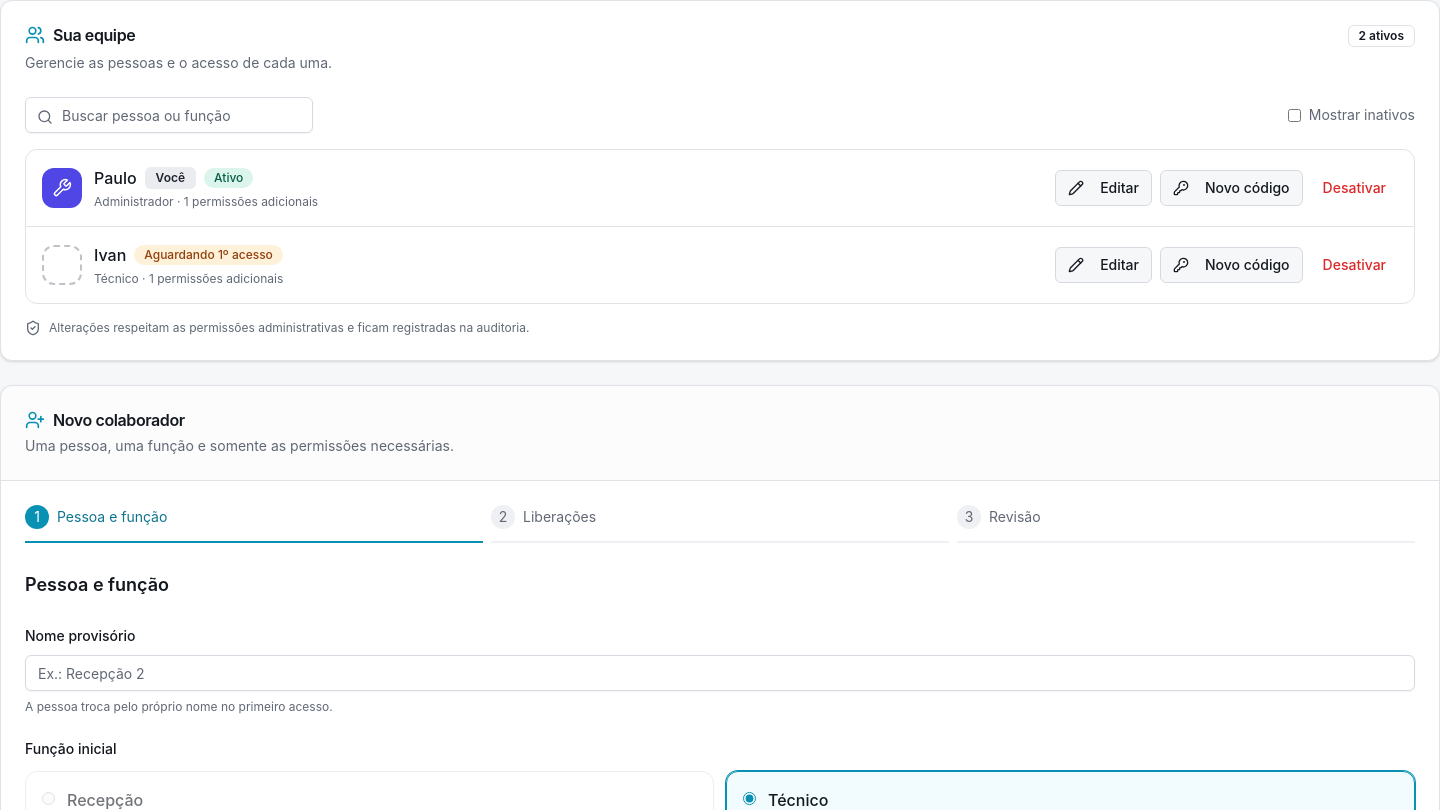
gestão da equipe › mostra quem aguarda o primeiro acesso e permite buscar e incluir inativos
Expected: the text "Ivan" is shown, [94,243,126,267]
Expected: the text "Aguardando 1º acesso" is shown, [134,245,283,265]
Click the checkbox labelled "Mostrar inativos": point(1294, 115) [1288,108,1301,122]
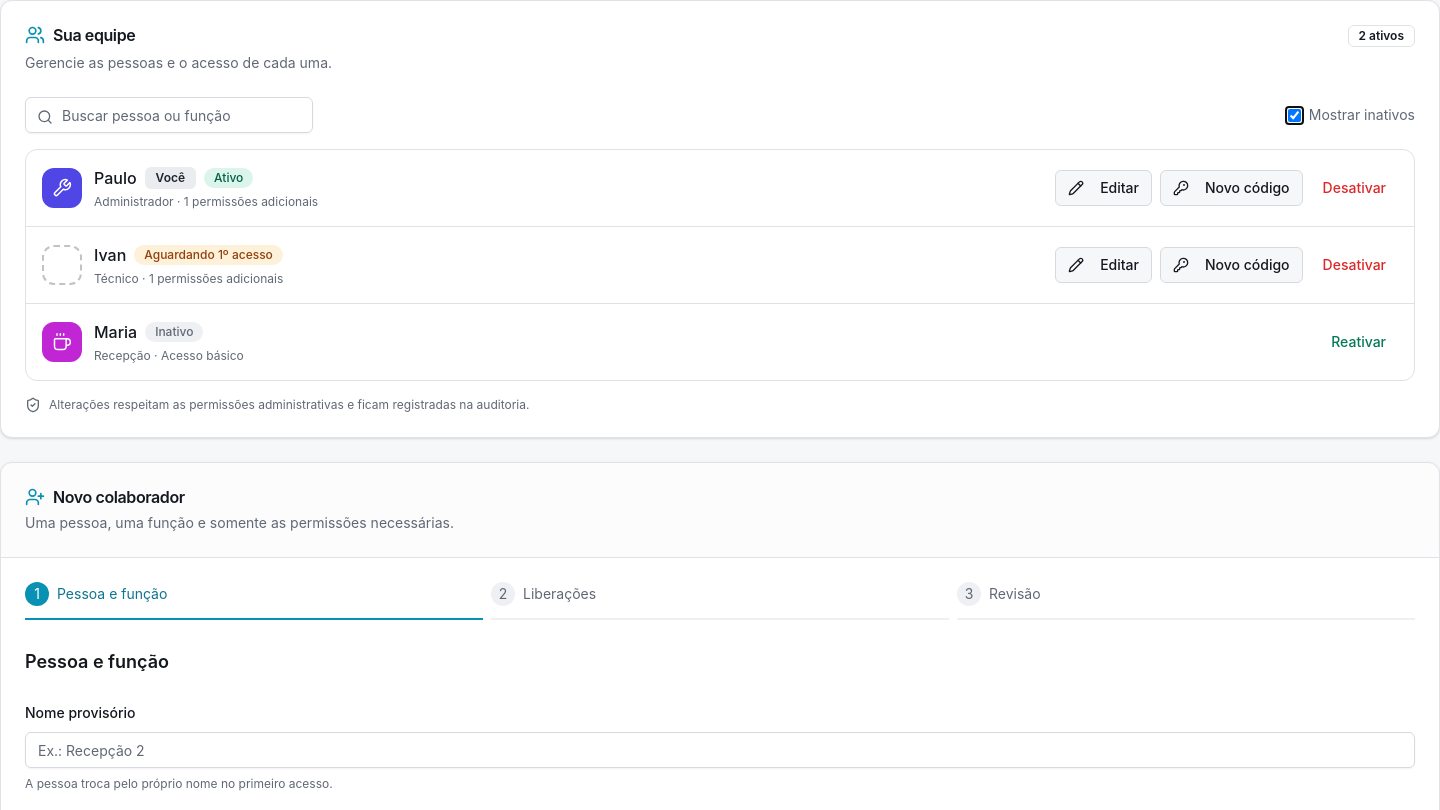
Expected: the text "Maria" is shown, [94,320,137,344]
In the field named "Buscar colaborador": point(169, 115) [25,97,313,133], type "Ivan"
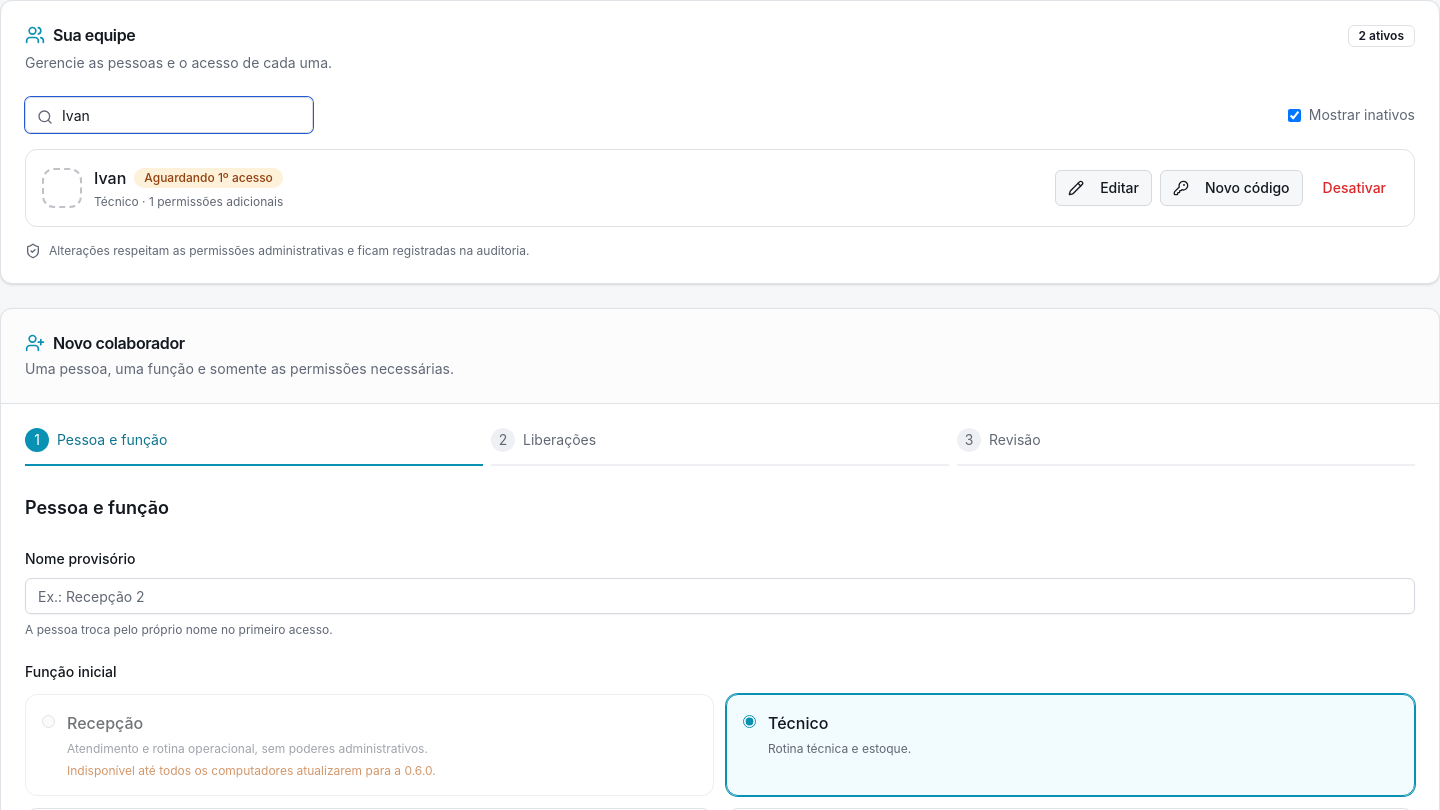
Expected: the text "Ivan" is shown, [94,166,126,190]
Expected: the text "Maria" is gone
